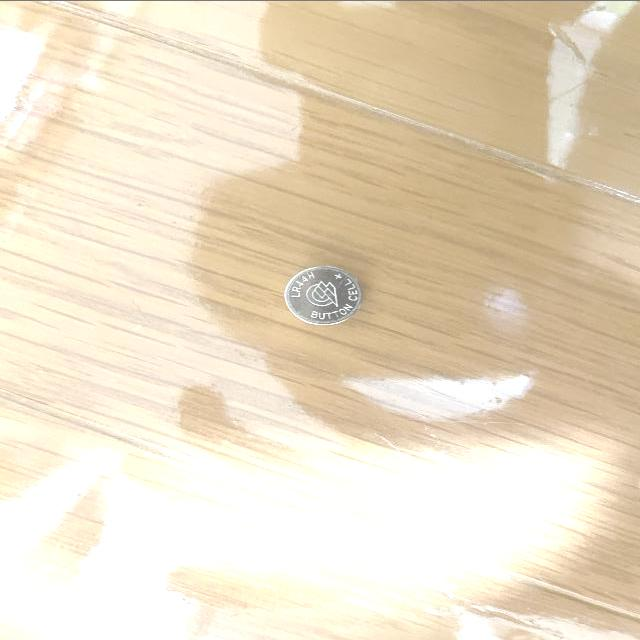COIN: (284, 265, 364, 325)
